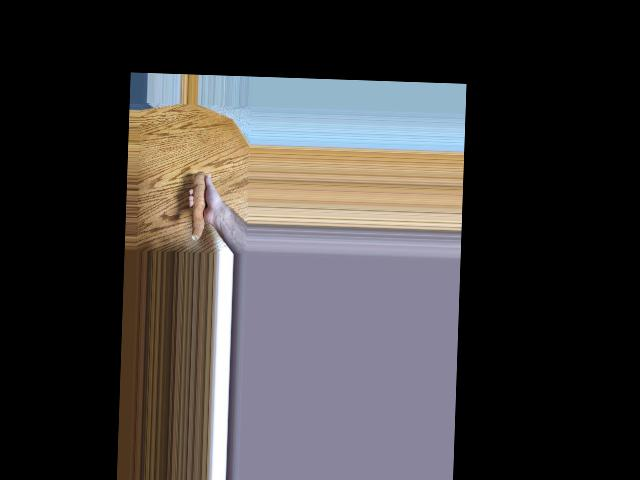sweet_potato: (190, 170, 213, 241)
